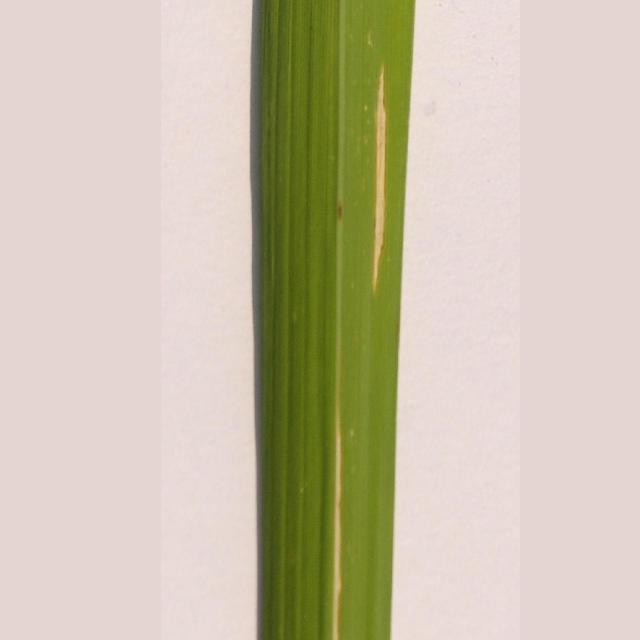Bacterial leaf blight: (243, 0, 432, 640)
